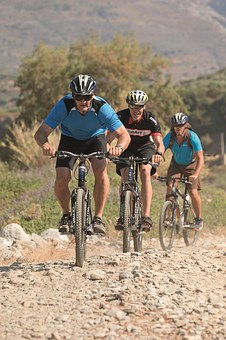bikerider: (37, 69, 109, 270), (100, 86, 163, 253), (151, 105, 207, 254)
